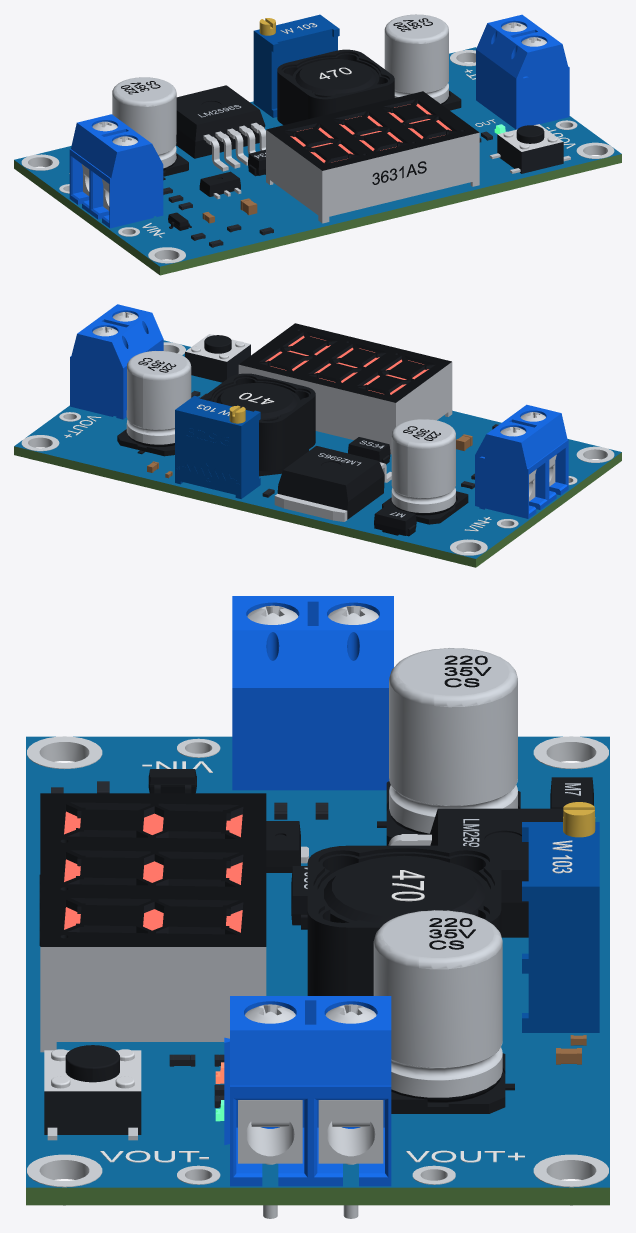
File: lm2596_buck.glb
3 renders of one model, top to bottom at view 1: azimuth 30°, elevation 25°; view 2: azimuth 150°, elevation 25°; view 3: azimuth 270°, elevation 25°, orthographic. The views are drawn at different scales.
Visible parts, largest first — view 1: node_pcb_blue, node_terminal_blue, node_matte_black, node_seg_housing, node_aluminum_can, node_jet_black, node_pcb_edge, node_trimpot_blue, node_charcoal_wall, node_chrome_metal, node_silver_pad, node_seg_led_red (+3 smaller); view 2: node_matte_black, node_pcb_blue, node_terminal_blue, node_aluminum_can, node_jet_black, node_trimpot_blue, node_seg_housing, node_pcb_edge, node_charcoal_wall, node_chrome_metal, node_silver_pad, node_seg_led_red (+3 smaller); view 3: node_pcb_blue, node_terminal_blue, node_aluminum_can, node_matte_black, node_jet_black, node_seg_housing, node_trimpot_blue, node_chrome_metal, node_charcoal_wall, node_pcb_edge, node_silver_pad, node_seg_led_red (+4 smaller).
Part boxes in pixels (x1,y1,x2,y2): node_pcb_blue: (14,47,621,266); node_terminal_blue: (69,14,569,228); node_matte_black: (163,49,544,230); node_seg_housing: (266,130,479,223); node_aluminum_can: (112,14,448,168); node_jet_black: (121,18,479,184); node_pcb_edge: (14,154,621,275); node_trimpot_blue: (253,14,339,117); node_charcoal_wall: (285,99,563,173); node_chrome_metal: (81,22,570,210); node_silver_pad: (21,50,614,263); node_seg_led_red: (290,103,451,162); node_matte_black: (117,335,468,536); node_pcb_blue: (14,340,621,558); node_terminal_blue: (70,304,568,518); node_aluminum_can: (126,351,455,512); node_jet_black: (138,323,451,440); node_trimpot_blue: (175,396,260,498); node_seg_housing: (238,362,452,454); node_pcb_edge: (14,446,621,567); node_charcoal_wall: (185,329,434,395); node_chrome_metal: (92,312,556,521); node_silver_pad: (21,342,614,555); node_seg_led_red: (265,335,428,394); node_pcb_blue: (26,736,609,1187); node_terminal_blue: (224,596,393,1186); node_aluminum_can: (373,648,517,1097); node_matte_black: (65,769,593,1113); node_jet_black: (39,655,491,949); node_seg_housing: (40,947,266,1052); node_trimpot_blue: (522,822,599,1032); node_chrome_metal: (47,605,431,1218); node_charcoal_wall: (44,802,243,1134); node_pcb_edge: (26,1187,609,1205); node_silver_pad: (27,736,608,1205); node_seg_led_red: (64,811,242,932).
Size of the model in its own units: 0.0661 by 0.0152 by 0.0362.
